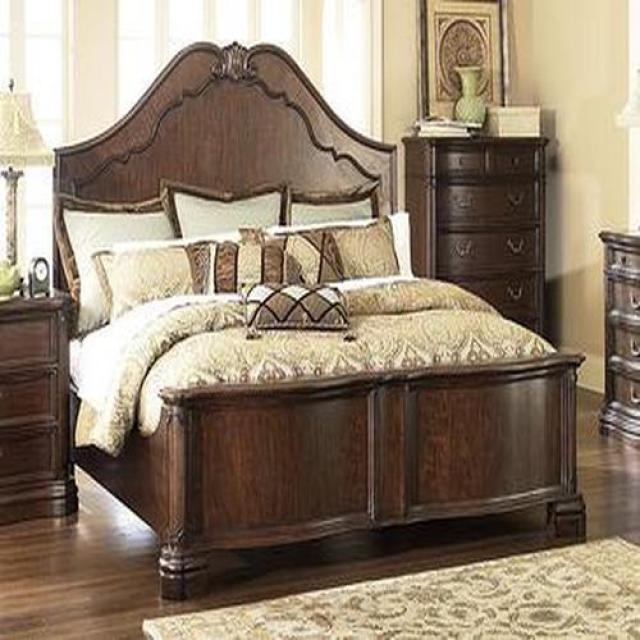bed: (54, 44, 585, 596)
